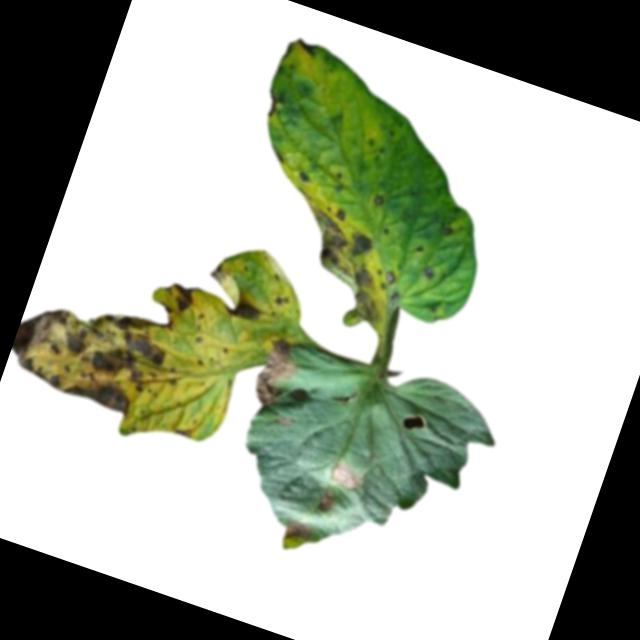Early_blight: (4, 279, 176, 421), (289, 199, 420, 326), (247, 330, 306, 411), (162, 277, 203, 318), (325, 455, 369, 493), (220, 290, 265, 326), (279, 513, 313, 547), (314, 488, 338, 514), (293, 33, 319, 55), (292, 164, 316, 187), (421, 257, 440, 281), (370, 188, 388, 209), (271, 290, 291, 307)
